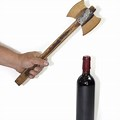axe: (13, 1, 104, 87)
